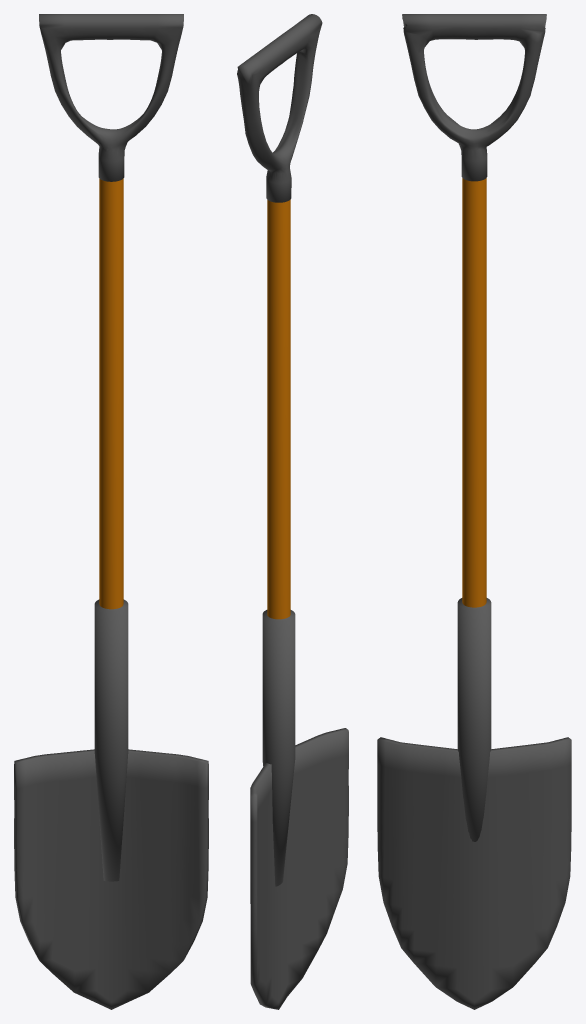
File: Shovel.fbx
3 views of the same model, side by side, from view 1: azimuth 90°, elevation 25°; view 2: azimuth 150°, elevation 25°; view 3: azimuth 270°, elevation 25° (orthographic). The views are drawn at different scales.
Parts seen in each view (by area): view 1: Circle, Cylinder, Plane; view 2: Circle, Cylinder, Plane; view 3: Circle, Cylinder, Plane.
Boxes of the visible parts, bbox=[...] form: Circle: bbox=[14, 599, 208, 1009]; Cylinder: bbox=[99, 178, 123, 609]; Plane: bbox=[39, 14, 183, 181]; Circle: bbox=[250, 610, 348, 1009]; Cylinder: bbox=[267, 199, 290, 619]; Plane: bbox=[237, 14, 322, 202]; Circle: bbox=[377, 598, 571, 1009]; Cylinder: bbox=[462, 178, 486, 607]; Plane: bbox=[402, 14, 546, 181].
Size of the model in its own units: 27.02 by 651 by 116.
